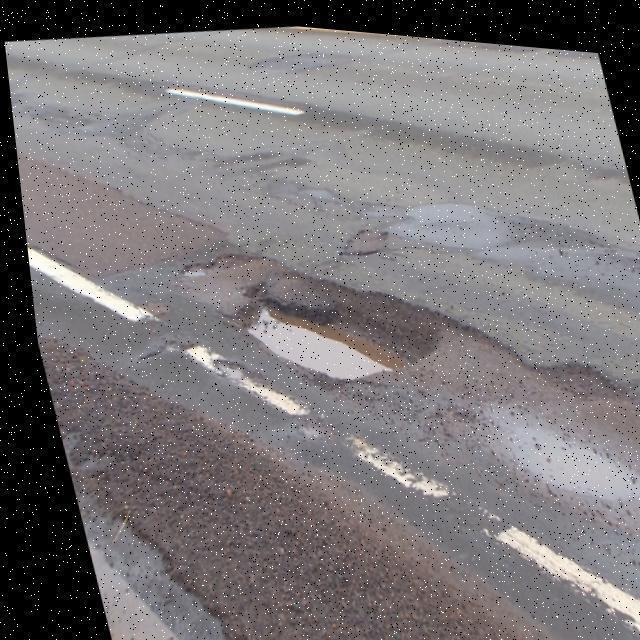Pothole: (177, 249, 640, 531)
